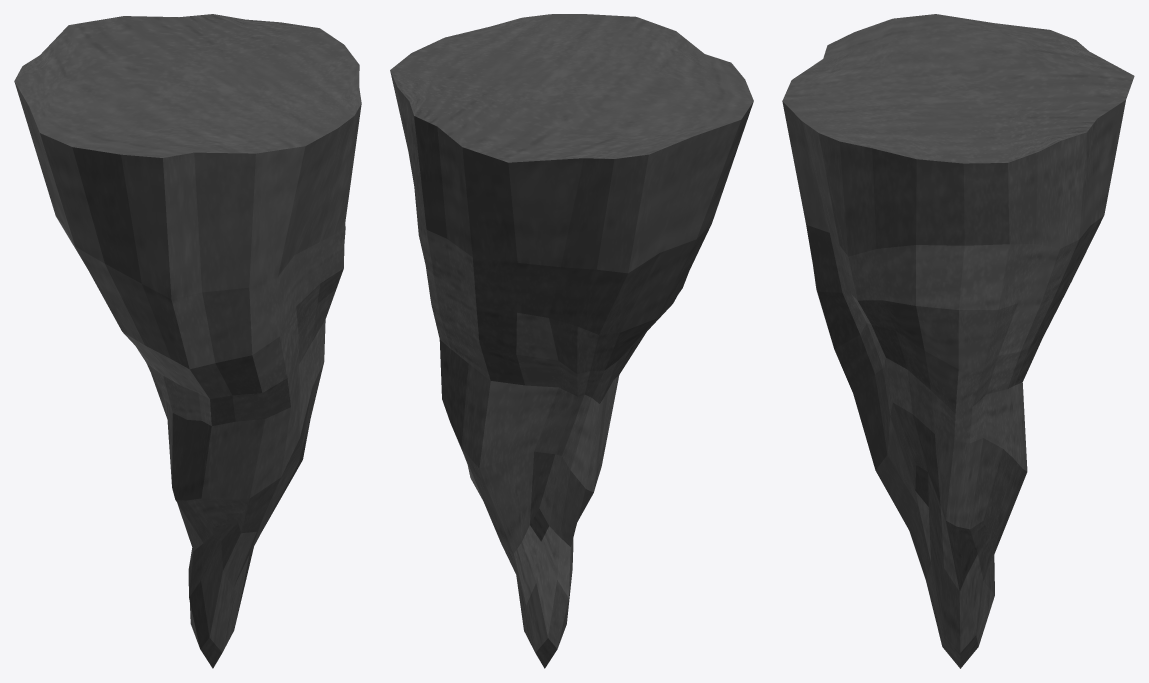
File: Rock1.fbx
The picture shows the model from 3 angles, left to right: view 1: azimuth 30°, elevation 25°; view 2: azimuth 150°, elevation 25°; view 3: azimuth 270°, elevation 25°; orthographic projection. The views are drawn at different scales.
Parts seen in each view (by area): view 1: rock1; view 2: rock1; view 3: rock1.
Boxes of the visible parts, bbox=[...] form: rock1: bbox=[14, 14, 361, 668]; rock1: bbox=[390, 14, 753, 668]; rock1: bbox=[782, 14, 1134, 668].
Bounding box in the file's own units: 1226 × 2170 × 1220.
